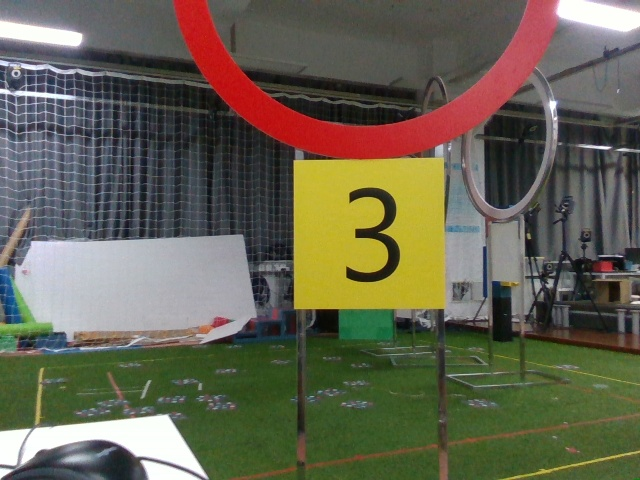target: (291, 163, 442, 312)
